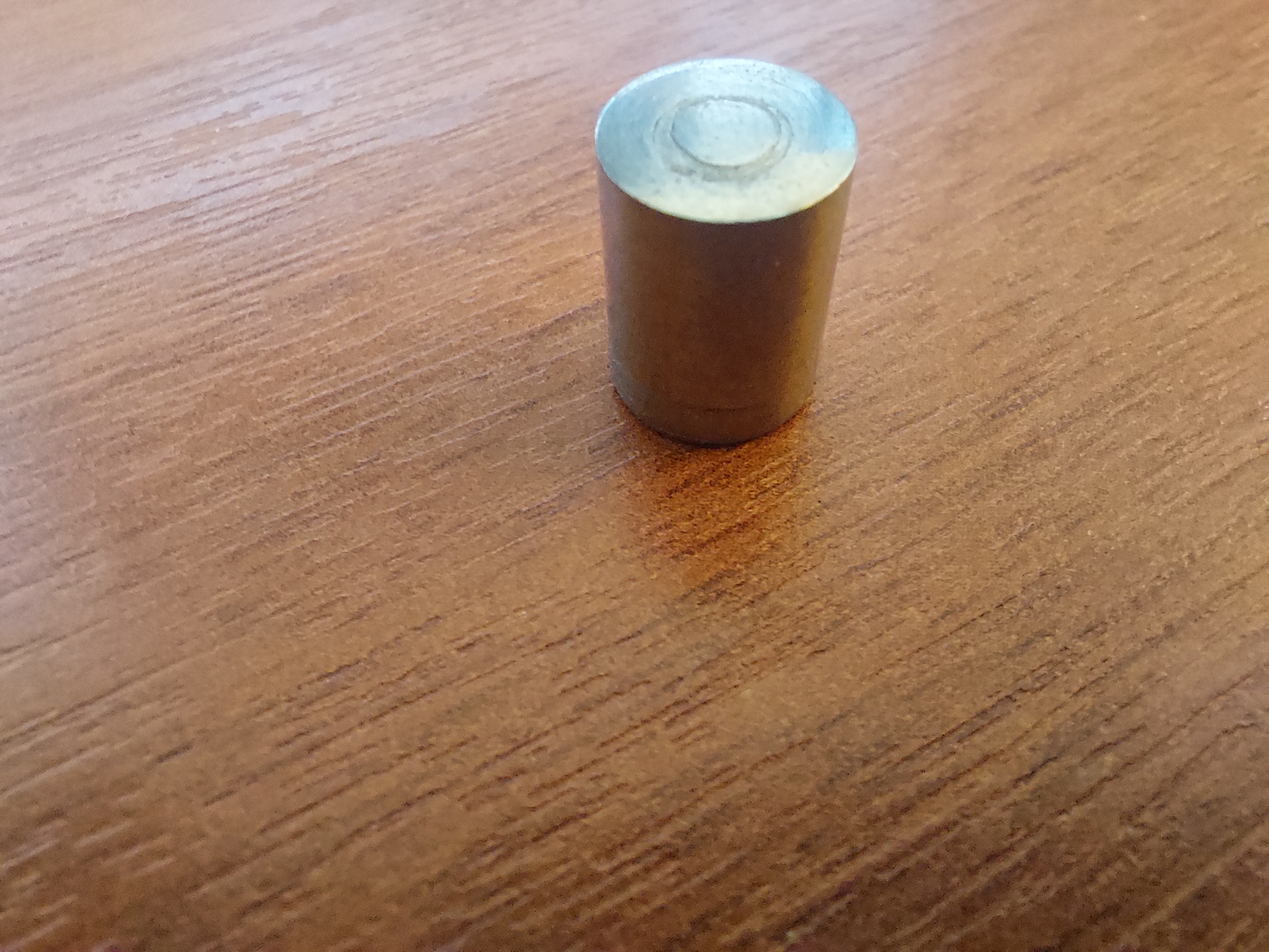tablet: (565, 53, 885, 482)
